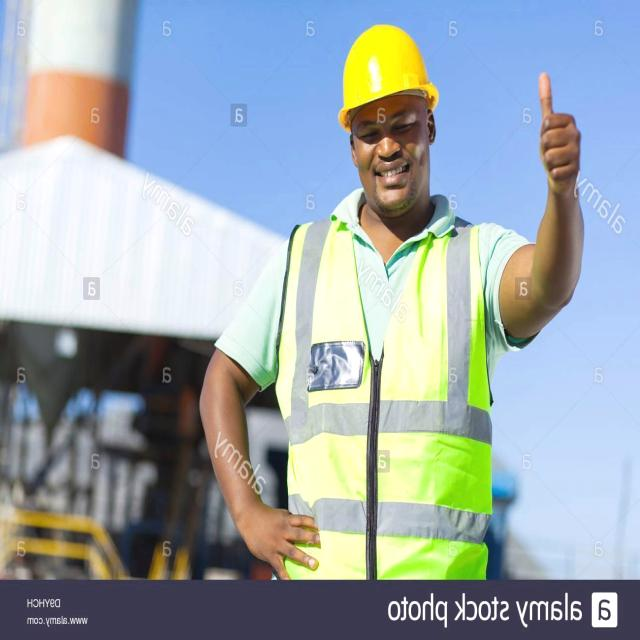face_nomask: (350, 105, 435, 216)
hand_noglove: (522, 74, 590, 195), (232, 486, 312, 578)
head_helmet: (338, 18, 442, 129)
person: (196, 5, 584, 579)
vest: (274, 196, 515, 586)
